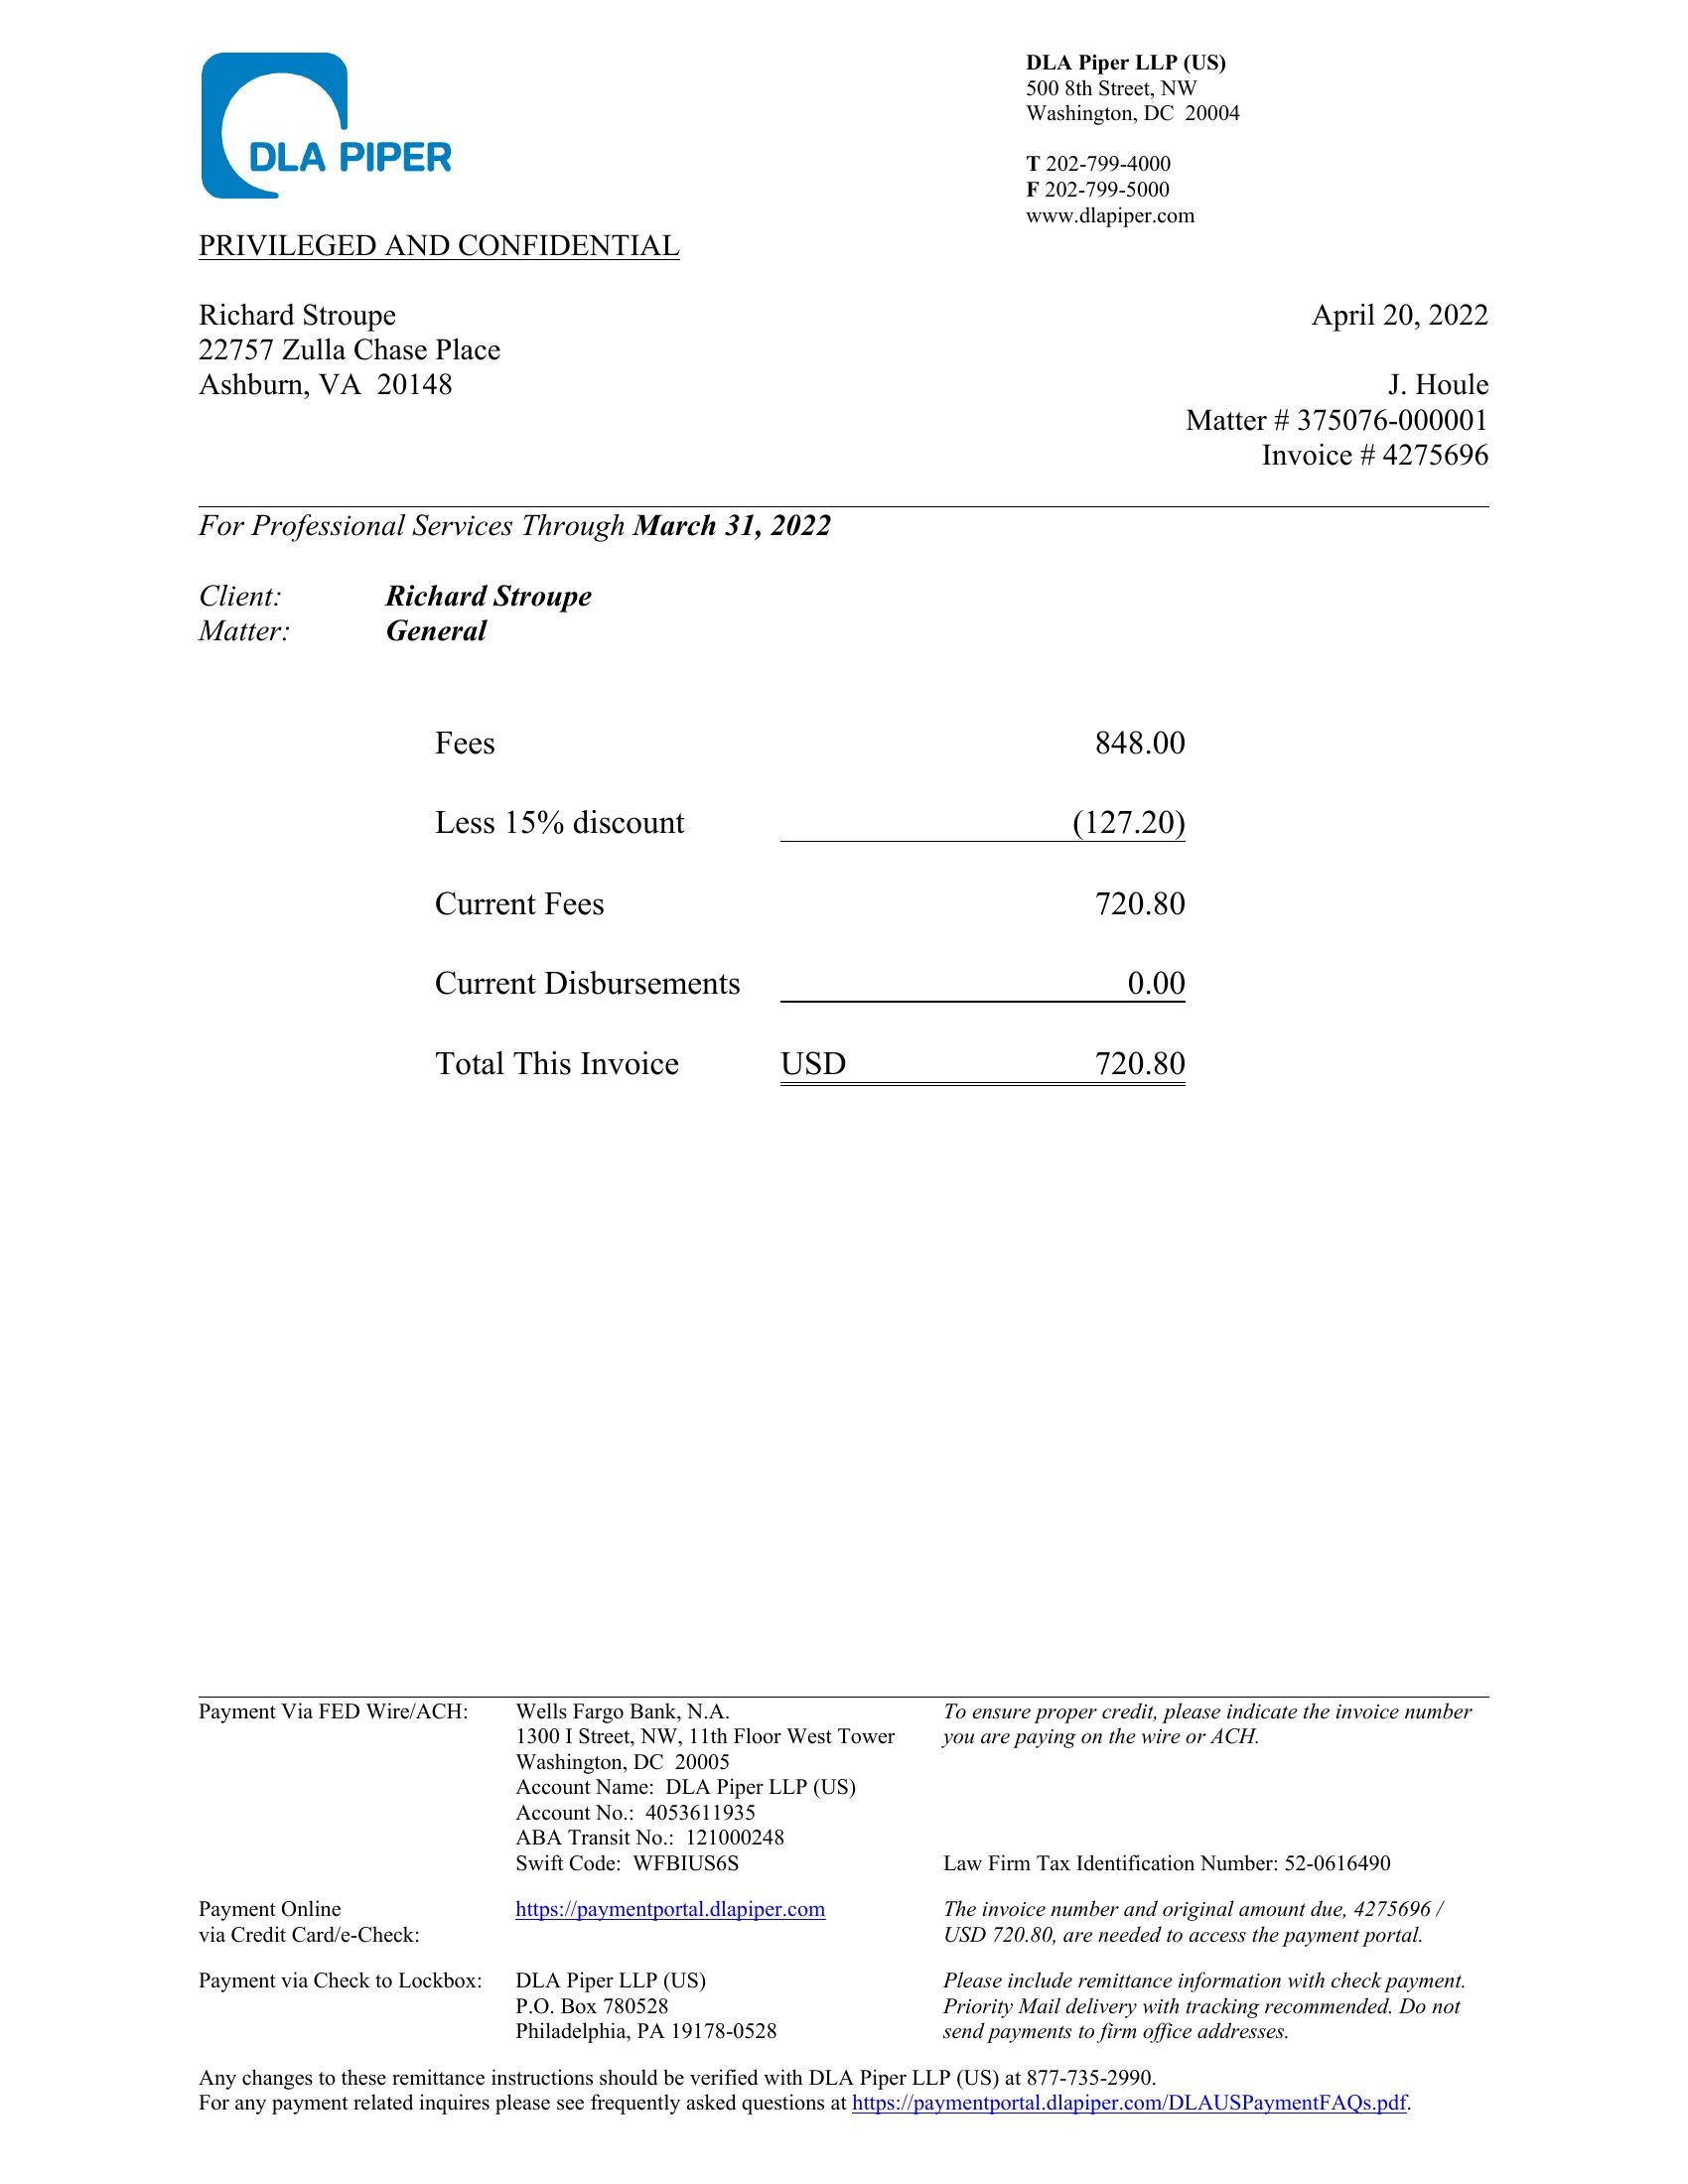0 table: (379, 700, 1270, 1111)
